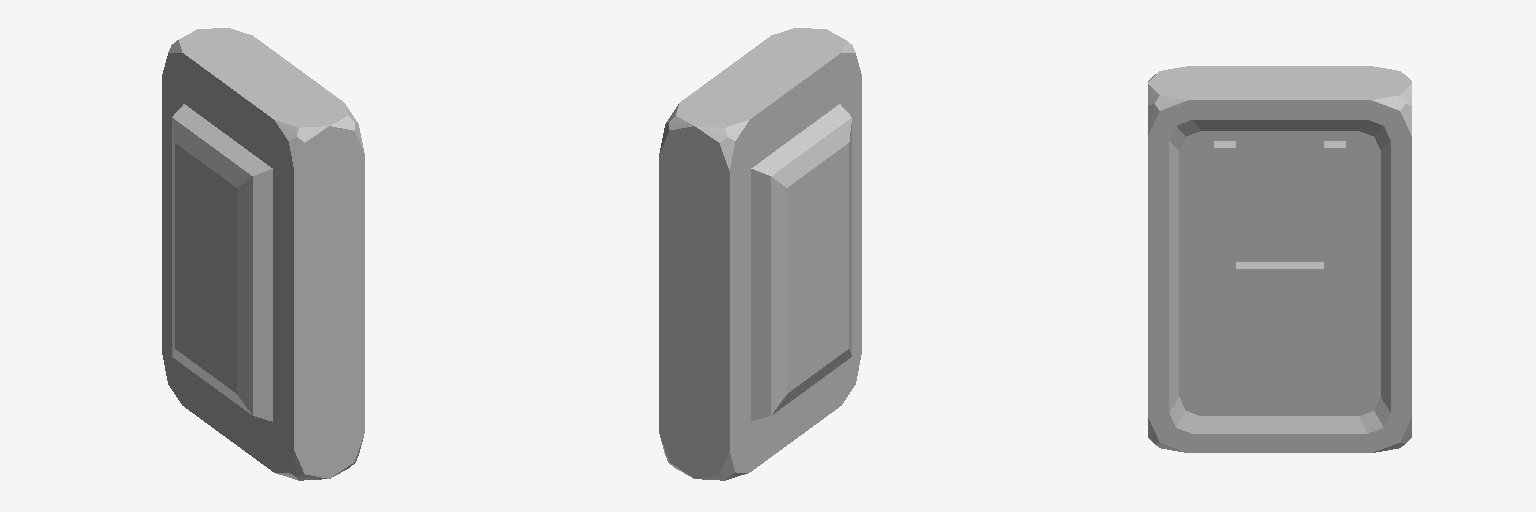
The model's file is H_pickup.obj.
3 renders of one model, left to right at view 1: azimuth 30°, elevation 25°; view 2: azimuth 150°, elevation 25°; view 3: azimuth 270°, elevation 25°, orthographic.
Parts seen in each view (by area): view 1: Health_Cube; view 2: Health_Cube; view 3: Health_Cube.
Boxes of the visible parts, <box> form: Health_Cube: <box>162,28,364,480</box>; Health_Cube: <box>659,28,861,480</box>; Health_Cube: <box>1148,66,1411,452</box>.
Bounding box in the file's own units: 0.8777 × 2.95 × 2.